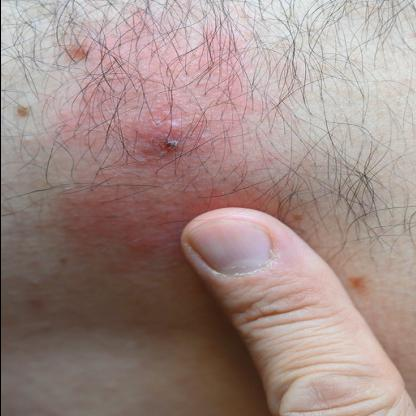Fire ant: (181, 240, 266, 323)
